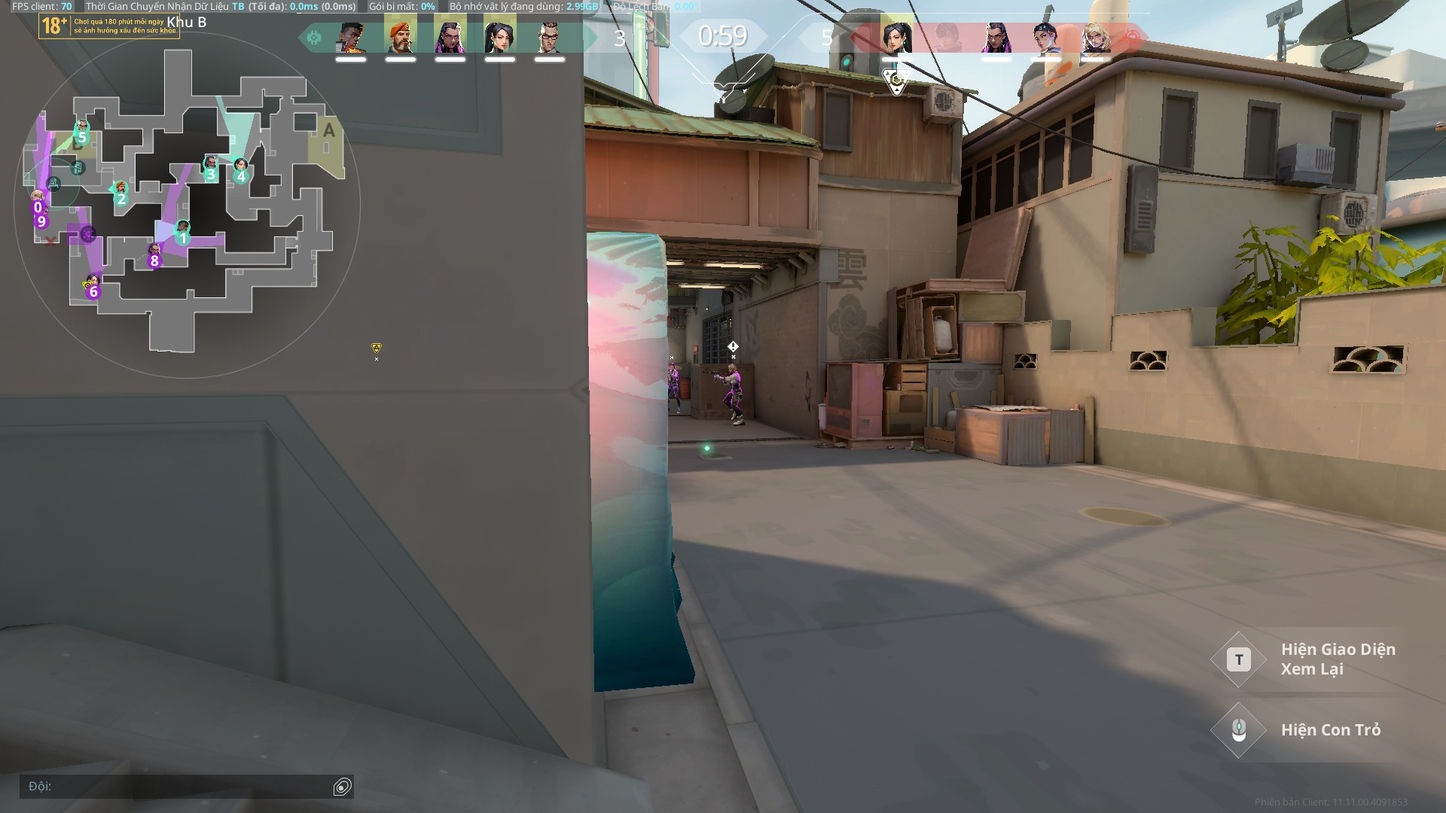body: (729, 372, 743, 390), (667, 370, 679, 385)
head: (728, 363, 736, 373), (669, 362, 675, 370)
